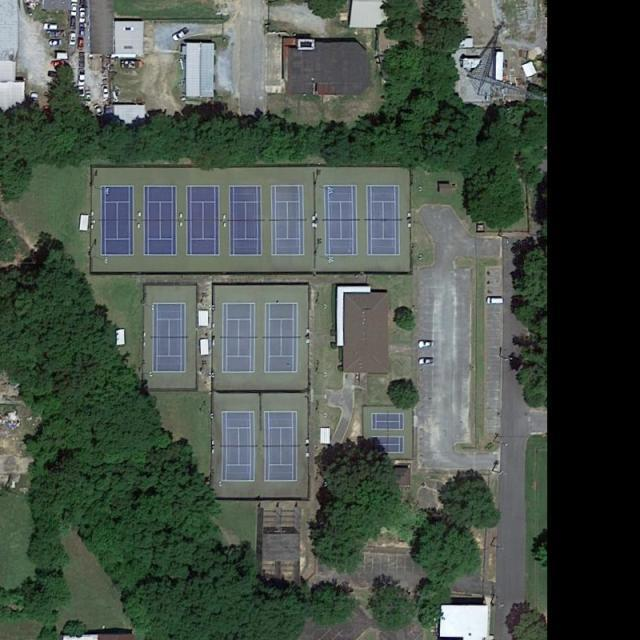vehicle: (171, 26, 191, 42), (93, 104, 104, 117), (78, 69, 86, 86), (418, 358, 434, 366), (418, 341, 434, 349), (79, 7, 87, 23), (78, 52, 86, 68), (51, 60, 66, 68), (486, 298, 503, 305), (44, 22, 58, 30), (70, 3, 78, 16), (69, 32, 76, 46), (48, 39, 62, 46), (102, 85, 109, 98), (78, 37, 85, 50), (70, 17, 76, 31), (79, 24, 86, 36), (78, 86, 84, 98), (86, 90, 92, 100)
